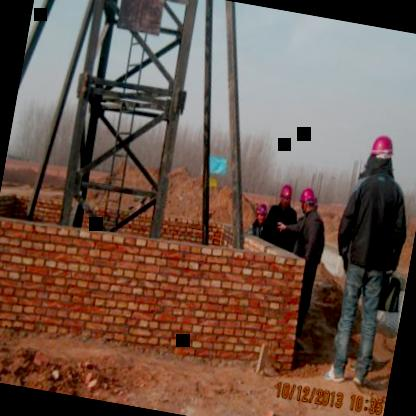helmet: (364, 129, 402, 183), (296, 183, 322, 215), (276, 180, 297, 210), (253, 197, 271, 227)
